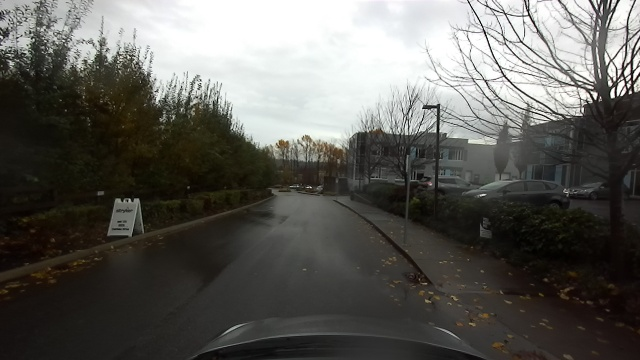car: (460, 171, 573, 209), (565, 178, 628, 203), (414, 170, 474, 195), (288, 183, 300, 189)
